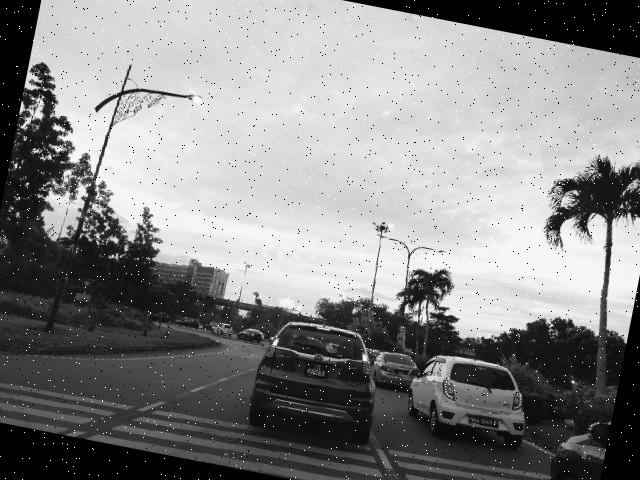License_Plate: (467, 415, 501, 432), (304, 362, 331, 382), (394, 369, 409, 377)
car: (248, 313, 389, 448), (401, 347, 538, 451), (373, 346, 426, 394)
